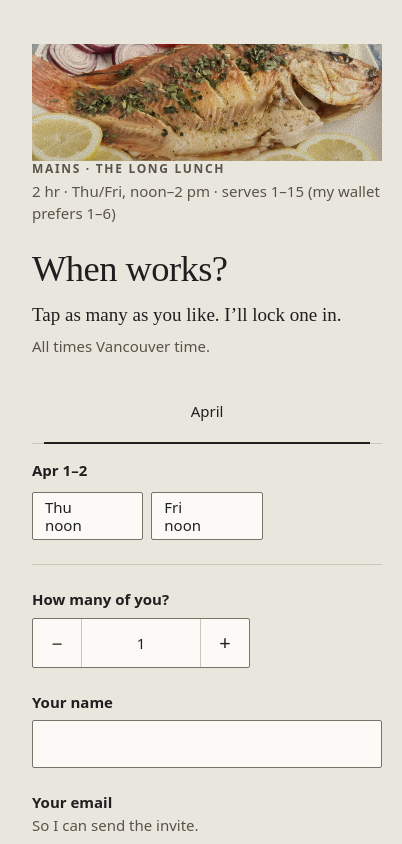
Test case: T1.7.U5 sticky summary bar › hidden with no picks; "N times picked · Your details ↓" once a time is picked (the arrow is decoration)
Click the button "Thu noon" at (88, 516), box [32,492,143,540]
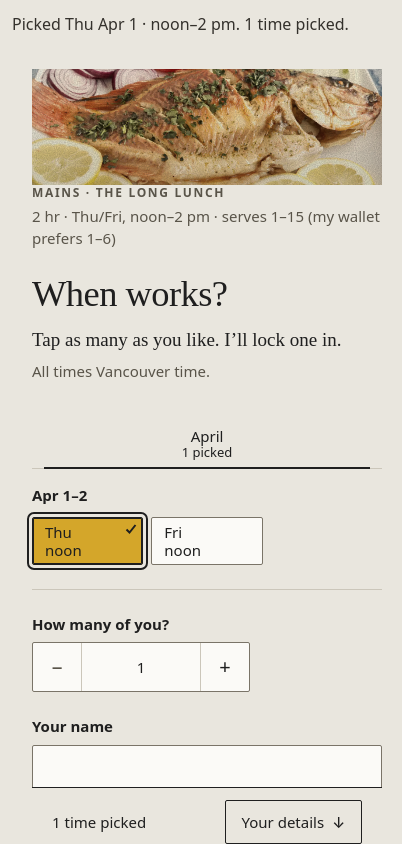
Result: the text with class "count" reads "1 time picked" at [52,812,146,832]
Click the button "Fri noon" at (207, 541), box [151,517,263,565]
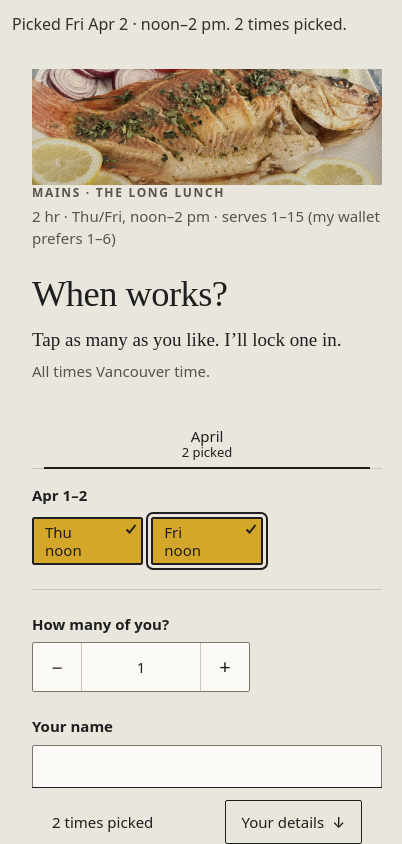
Result: the text "↓" is shown at [332,813,345,831]
Result: the text with class "count" reads "2 times picked" at [52,812,153,832]
